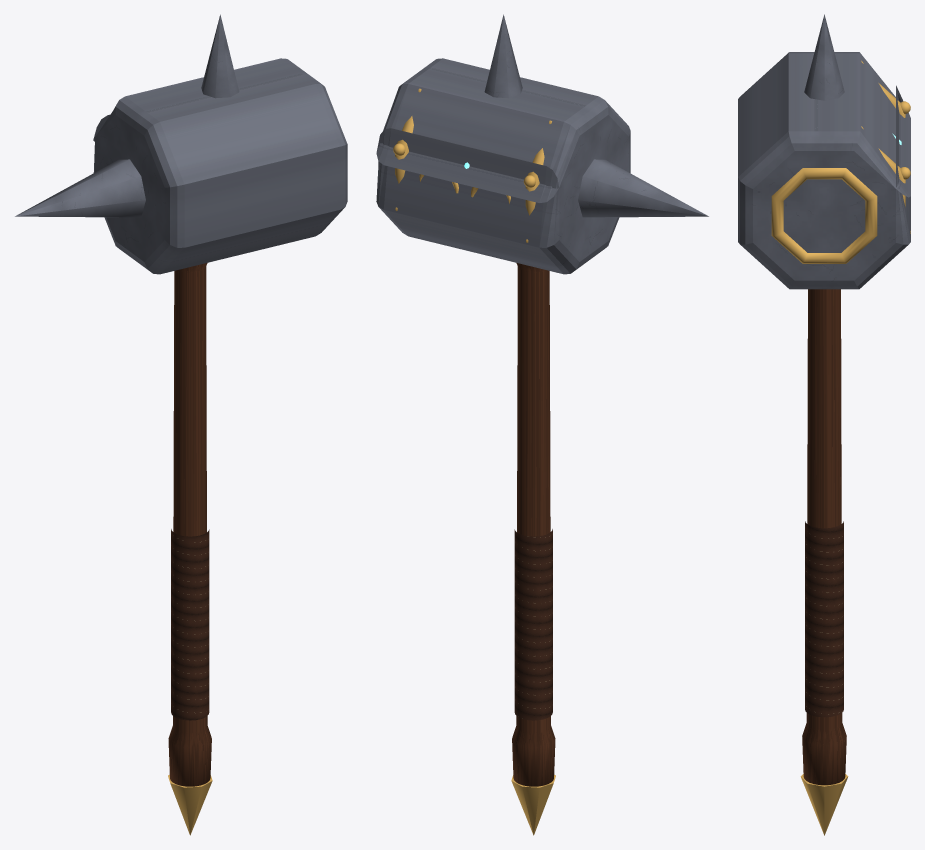
File: hammer.glb
The picture shows the model from 3 angles, left to right: view 1: azimuth 30°, elevation 25°; view 2: azimuth 150°, elevation 25°; view 3: azimuth 270°, elevation 25°; orthographic projection. The views are drawn at different scales.
Parts seen in each view (by area): view 1: head, haft, grip, spikes, pommel; view 2: head, haft, grip, spikes, bands, pommel; view 3: head, haft, grip, bands, spikes, pommel.
Part boxes in pixels (x1,y1,x2,y2): head: (93,58,347,274); haft: (168,263,211,786); grip: (171,529,209,720); spikes: (15,14,239,217); pommel: (168,775,212,835); head: (376,58,630,274); haft: (512,263,555,786); grip: (514,529,552,720); spikes: (484,14,708,217); bands: (393,88,551,242); pommel: (511,775,555,835); head: (738,52,910,289); haft: (802,289,846,785); grip: (805,521,843,717); bands: (771,60,910,263); spikes: (804,14,844,100); pommel: (800,774,848,835).
Size of the model in its own units: 1.19 by 3.1 by 0.5804.
6 materials, 3 textured.
